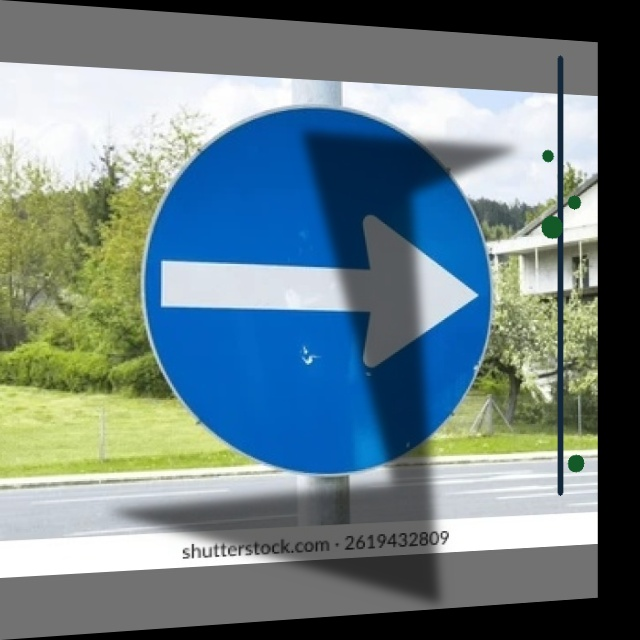Compulsory_Turn_Right: (150, 94, 494, 478)
